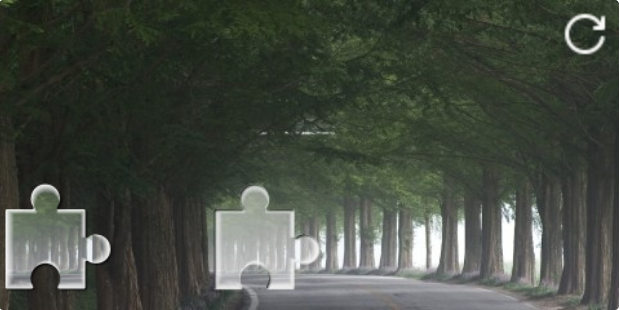target: (216, 185, 320, 289)
